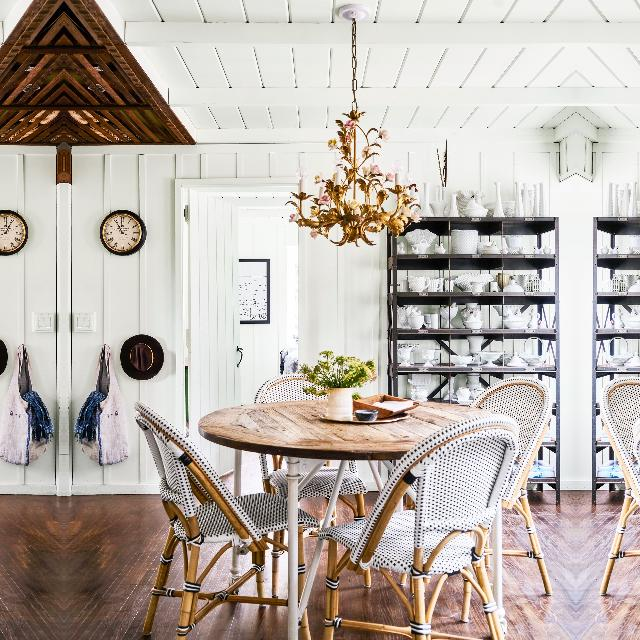obstacle: (116, 390, 292, 640), (352, 414, 528, 640), (624, 414, 640, 640), (0, 390, 12, 639)
